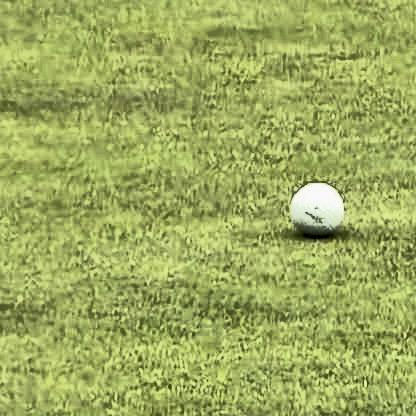golfball: (285, 180, 342, 236)
